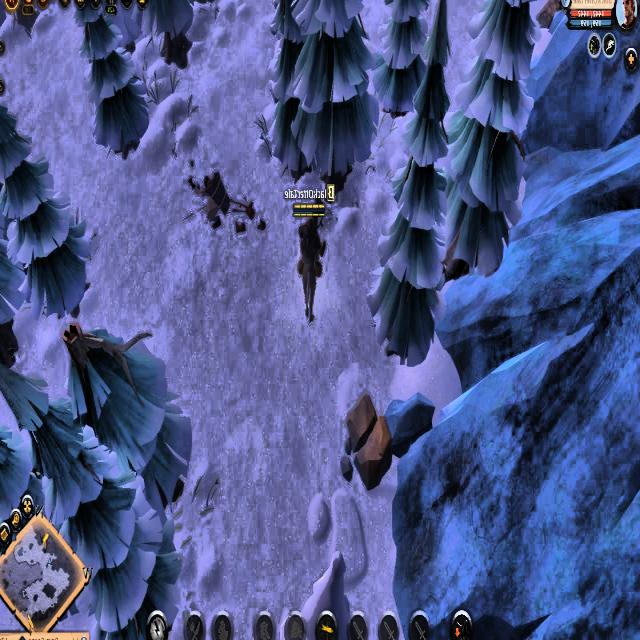limestone: (342, 389, 393, 491)
